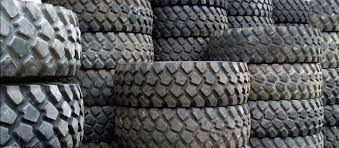tire: (1, 1, 80, 80), (115, 60, 249, 106), (112, 105, 251, 148), (1, 83, 84, 147), (210, 26, 320, 62), (45, 1, 152, 32), (248, 99, 324, 137), (248, 63, 322, 100), (81, 32, 153, 69), (153, 5, 228, 37), (153, 37, 209, 61), (84, 106, 114, 148), (80, 69, 114, 105), (247, 132, 323, 148), (308, 1, 339, 32), (272, 1, 309, 22), (320, 32, 339, 69), (226, 1, 272, 16), (322, 68, 339, 105), (324, 105, 339, 127), (324, 127, 339, 148)
